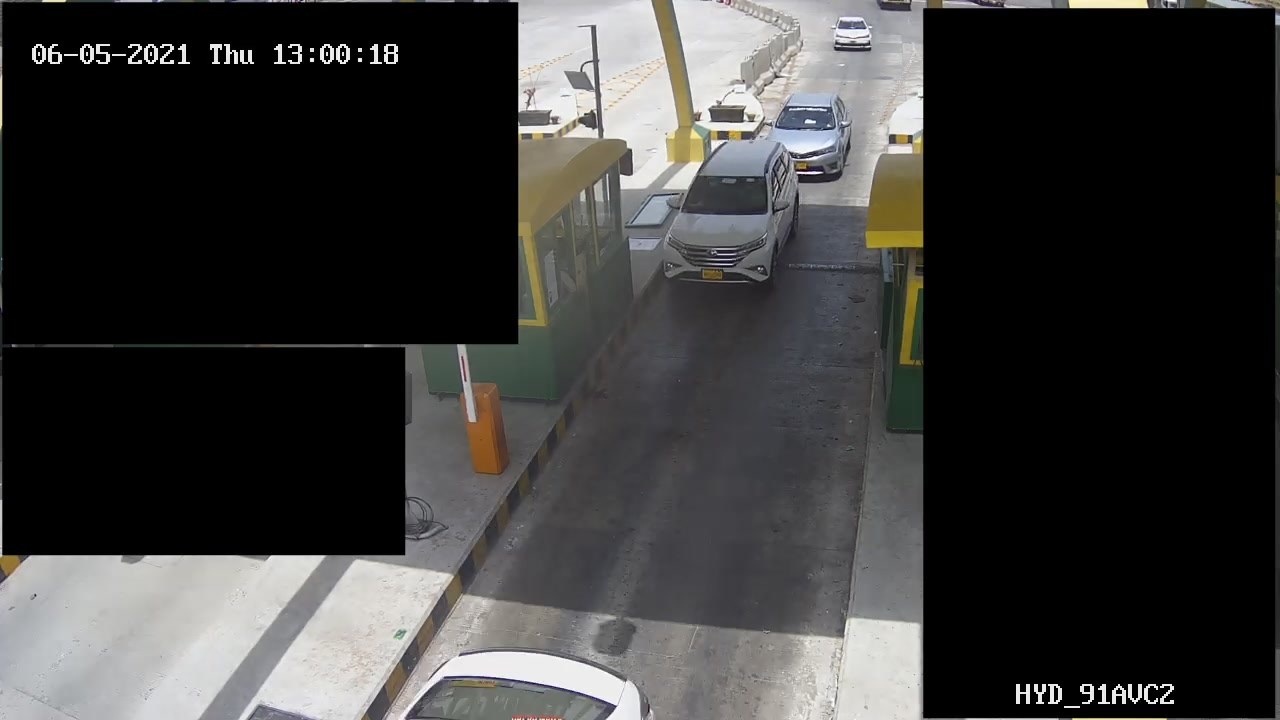F1: (662, 135, 807, 300)
